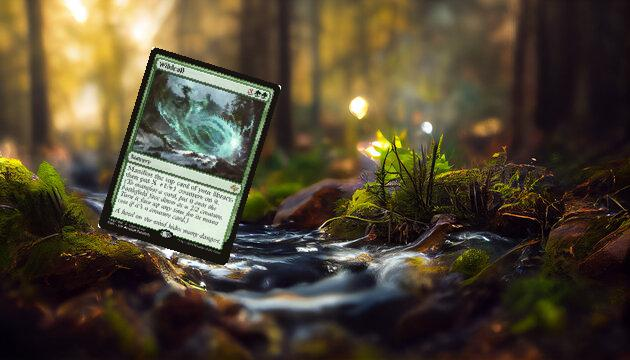mtgCard: (97, 46, 282, 267)
